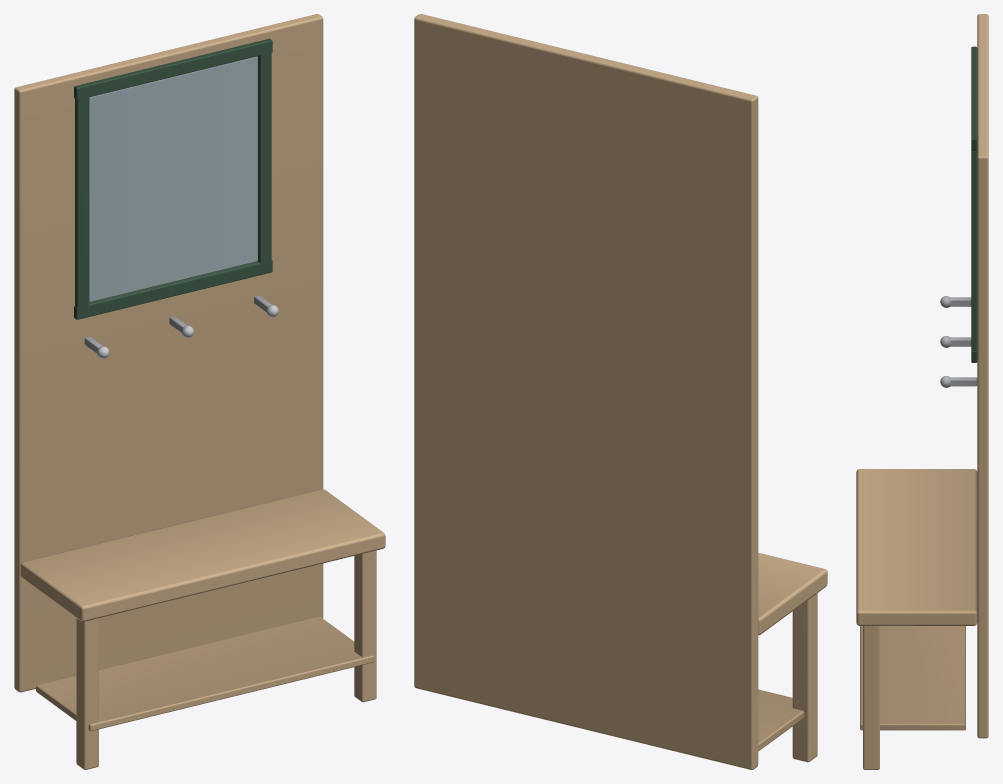
File: hallStand.glb
3 renders of one model, left to right at view 1: azimuth 30°, elevation 25°; view 2: azimuth 150°, elevation 25°; view 3: azimuth 270°, elevation 25°, orthographic. The views are drawn at different scales.
Parts seen in each view (by area): view 1: board, glass, seat, shelf, leg1, leg0, bead0, bead3, bead2, bead1; view 2: board, leg1, seat, shelf; view 3: seat, shelf, board, leg0, bead2, bead0, arm0.
Part boxes in pixels (x1,y1,x2,y2): board: (14, 14, 323, 692); glass: (89, 56, 257, 302); seat: (20, 489, 385, 621); shelf: (36, 616, 373, 731); leg1: (76, 618, 98, 769); leg0: (354, 550, 376, 702); bead0: (74, 38, 272, 99); bead3: (75, 93, 88, 312); bead2: (257, 48, 271, 264); bead1: (74, 260, 272, 319); board: (414, 14, 758, 769); leg1: (792, 593, 817, 762); seat: (758, 553, 827, 635); shelf: (758, 689, 804, 751); seat: (856, 469, 977, 625); shelf: (860, 626, 965, 730); board: (977, 14, 988, 738); leg0: (863, 626, 879, 769); bead2: (971, 150, 977, 350); bead0: (971, 46, 977, 150); arm0: (950, 377, 977, 386).
Size of the model in its own units: 0.9 by 1.8 by 0.35.
